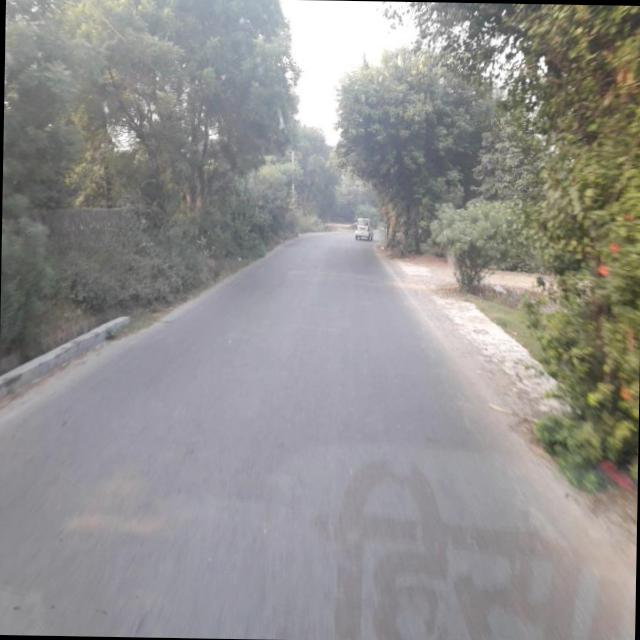pothole: (106, 597, 164, 636)
